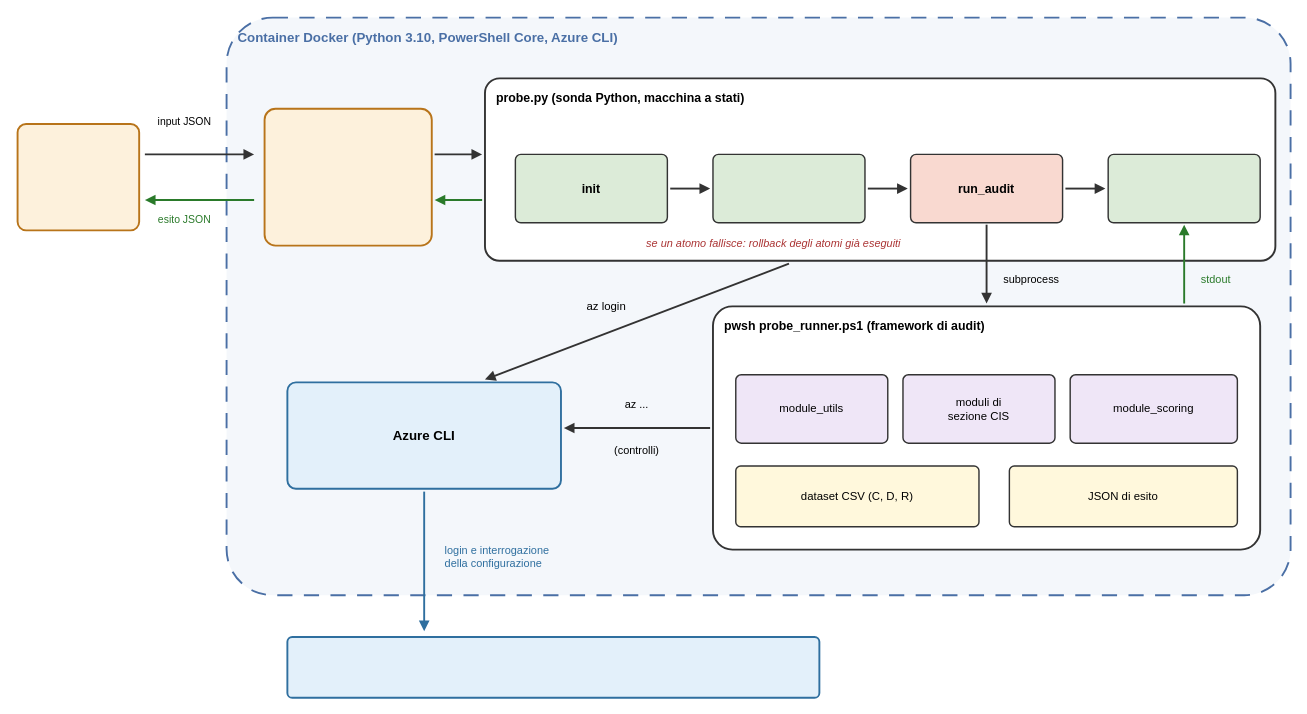
Image size: 1307x714. Some labels were removed from this diagram. The shapes that lost their labels are listed below. From the top down, each one's centre as x and y in pixels, then its label:
At point (78, 177): "Piattaforma Moon Cloud".
At point (347, 176): "Driver Moon Cloud (libreria)".
At point (788, 188): "azure_login".
At point (1183, 188): "make_result".
At point (553, 667): "Sottoscrizione Azure (risorse controllate)".
